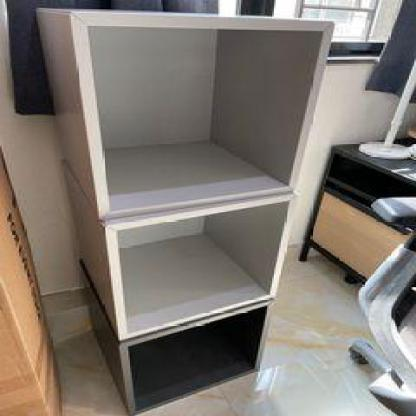lamp: (37, 5, 335, 415)
